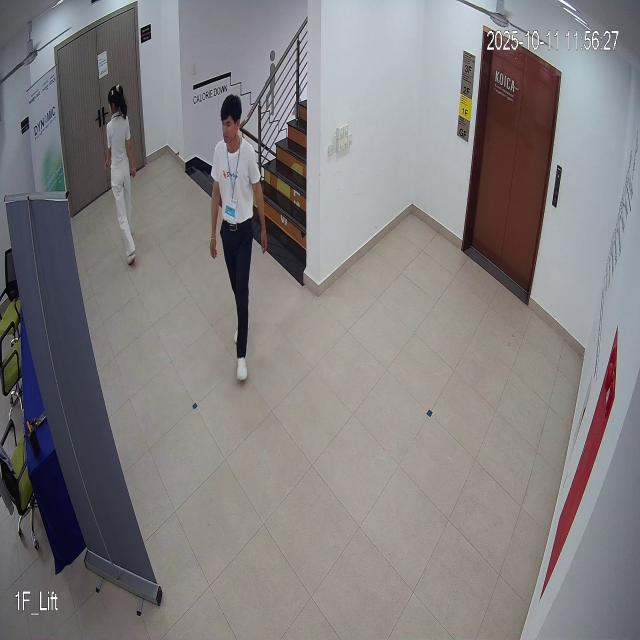face: (217, 87, 242, 152)
